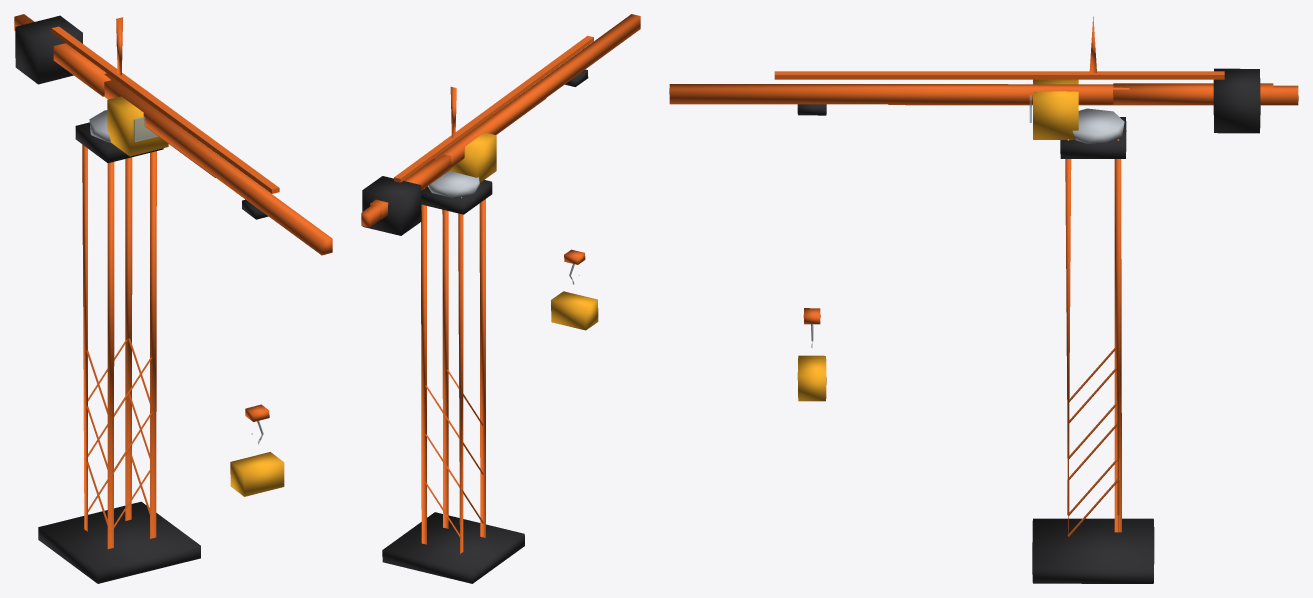
The model's file is lod_crane_toy.glb.
3 views of the same model, side by side, from view 1: azimuth 30°, elevation 25°; view 2: azimuth 150°, elevation 25°; view 3: azimuth 270°, elevation 25° (orthographic). The views are drawn at different scales.
Visible parts, largest first — view 1: crane_toy; view 2: crane_toy; view 3: crane_toy.
Part boxes in pixels (<box>): crane_toy: <box>14,14,332,583</box>; crane_toy: <box>361,14,640,583</box>; crane_toy: <box>669,16,1298,583</box>.
Bounding box in the file's own units: 1.95 × 9.58 × 10.07.
